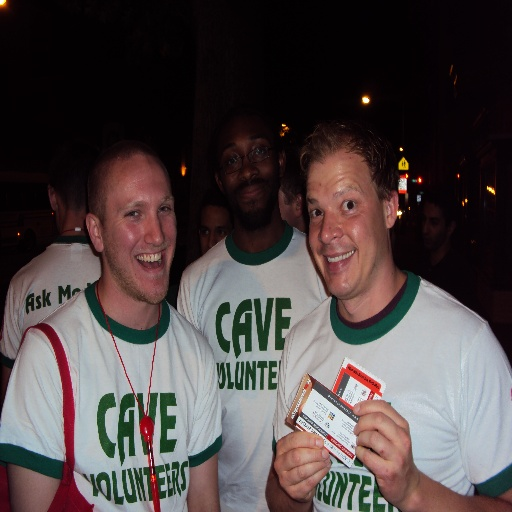hand: (352, 398, 419, 505), (273, 442, 328, 488)
